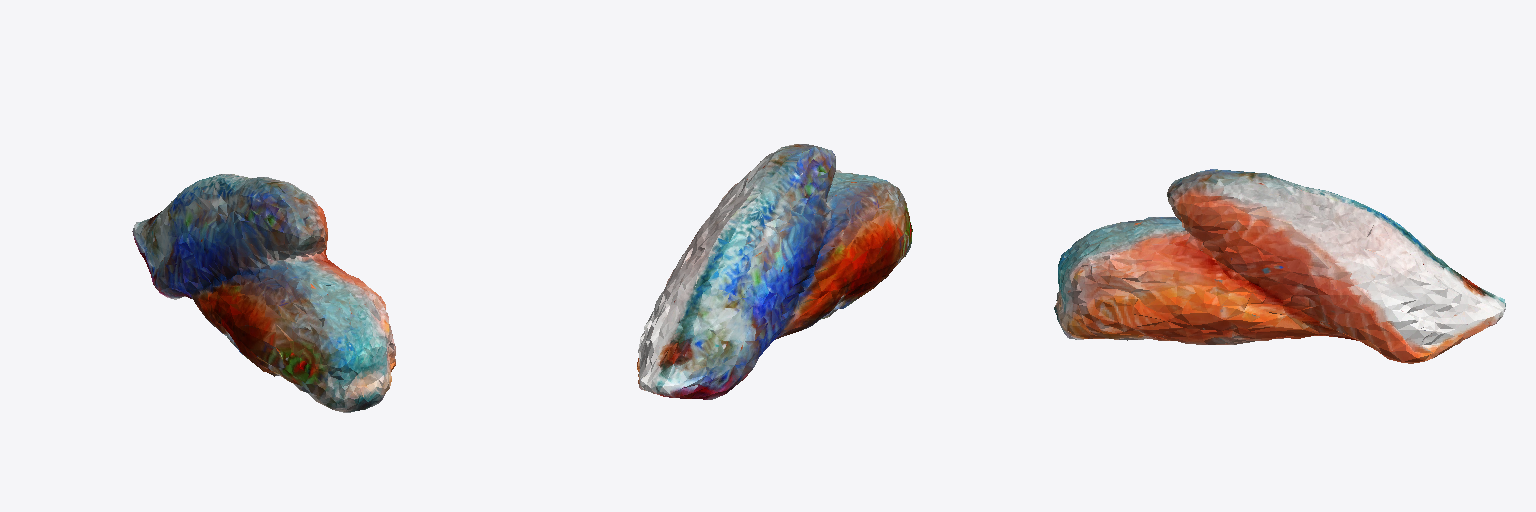
3 renders of one model, left to right at view 1: azimuth 30°, elevation 25°; view 2: azimuth 150°, elevation 25°; view 3: azimuth 270°, elevation 25°, orthographic.
Visible parts, largest first — view 1: model; view 2: model; view 3: model.
Part boxes in pixels (bbox=[...]): model: bbox=[132, 174, 395, 412]; model: bbox=[637, 144, 912, 399]; model: bbox=[1054, 169, 1505, 363].
Size of the model in its own units: 0.35 by 0.4328 by 1.05.
Materials: 1 (1 with a texture image).